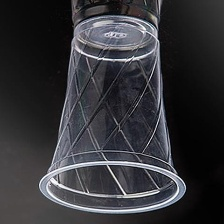glass: (35, 9, 187, 217)
